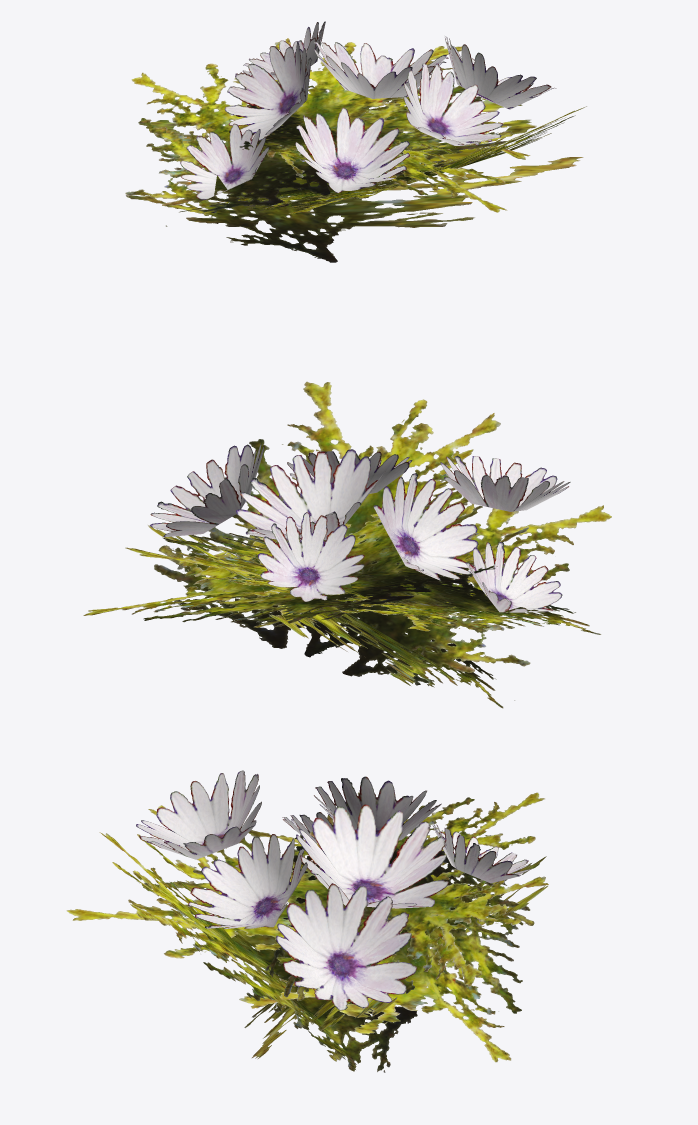
Rendered from flower_shrub_white_2m.DAE.
3 views of the same model, one above another, from view 1: azimuth 30°, elevation 25°; view 2: azimuth 150°, elevation 25°; view 3: azimuth 270°, elevation 25° (orthographic). The views are drawn at different scales.
Parts seen in each view (by area): view 1: Plane01; view 2: Plane01; view 3: Plane01.
Part boxes in pixels (x1=…): Plane01: x1=125, y1=21, x2=586, y2=262; Plane01: x1=83, y1=381, x2=611, y2=708; Plane01: x1=66, y1=770, x2=548, y2=1072.
Bounding box in the file's own units: 3.22 × 1.06 × 2.76.
